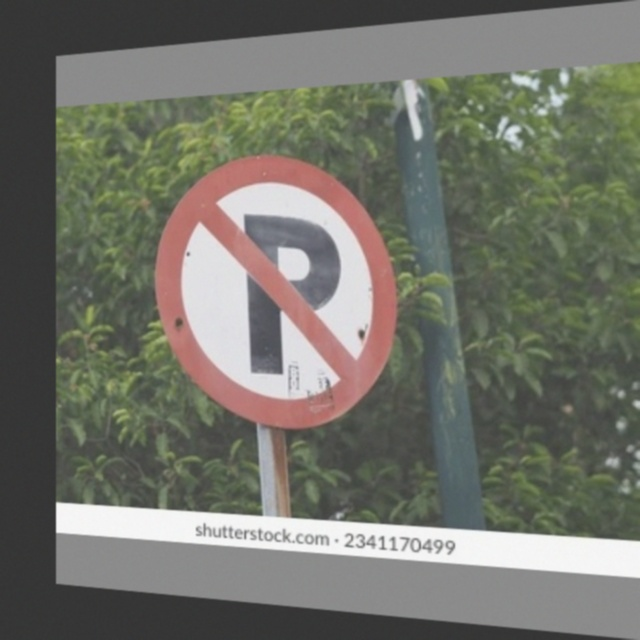No_Parking: (158, 143, 394, 429)
